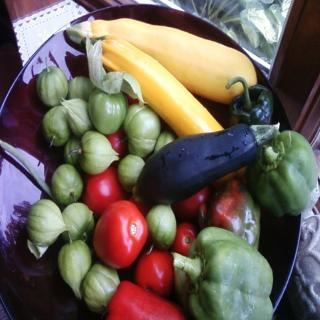tomato: (94, 198, 150, 267), (136, 246, 172, 300), (83, 166, 119, 208), (174, 220, 197, 258)
